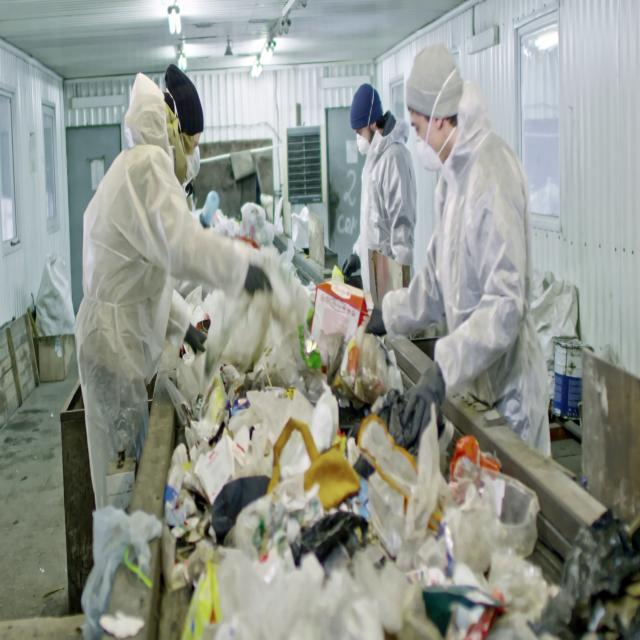gloved: (400, 361, 446, 452), (244, 262, 273, 298), (183, 322, 207, 356), (364, 306, 386, 335), (342, 252, 360, 278)
